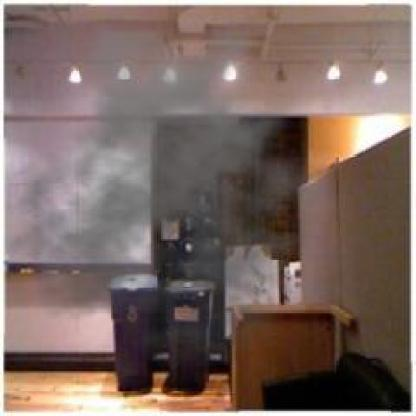Smoke: (2, 31, 345, 369)
